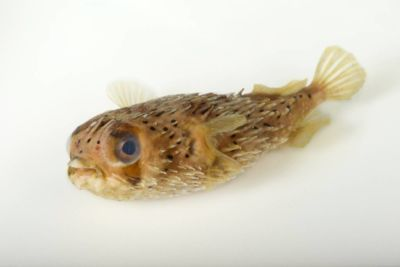Diodon_holocanthus: (58, 42, 365, 204)
